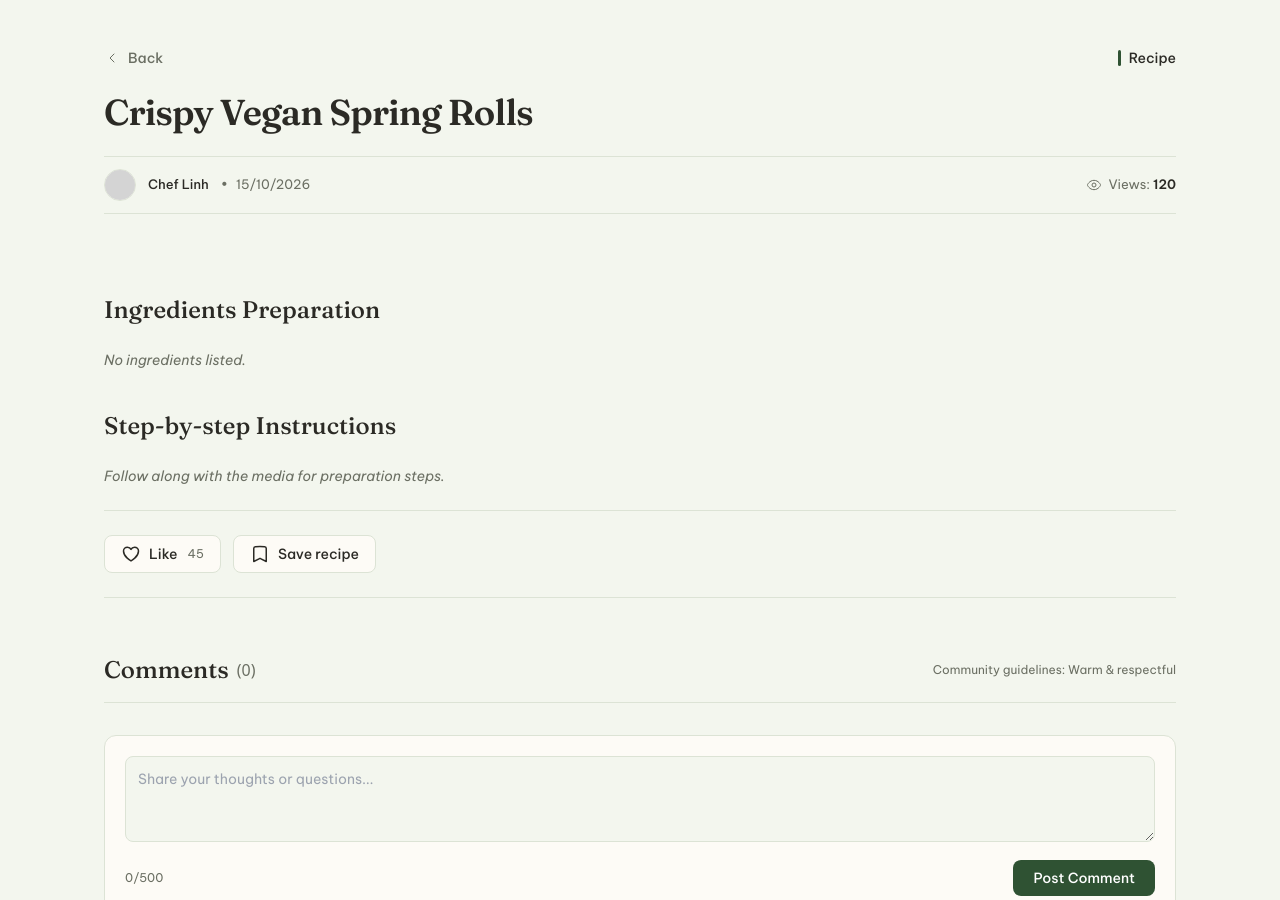
Test: FOLLOW-02 — UserProfilePreview & Follow UI › PostDetailCore opens UserProfilePreview when clicking author avatar or name
Click the button with aria-label "View profile of Chef Linh" at (156, 185), box [102,167,211,203]
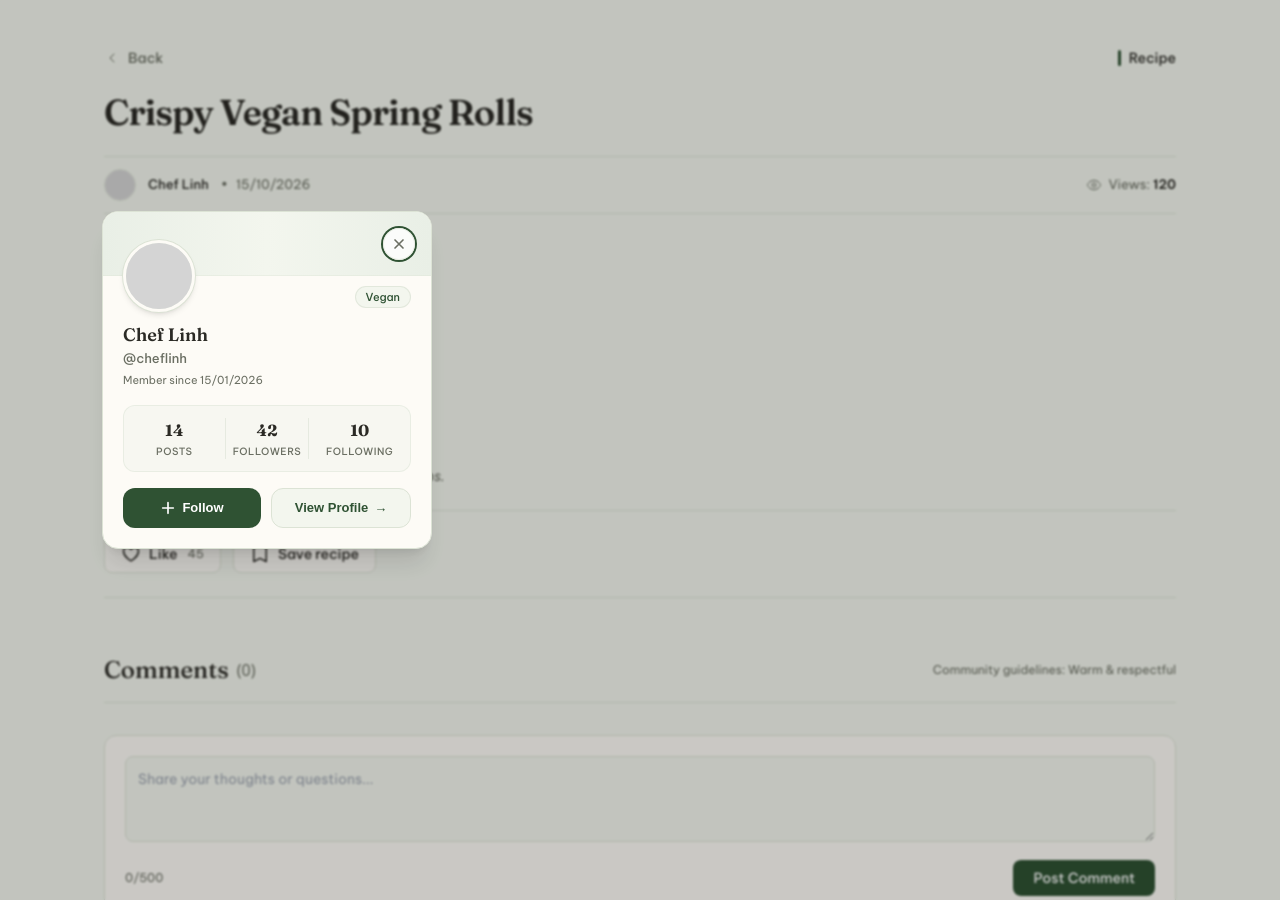
Now the dialog is shown, box [102,211,432,548]
